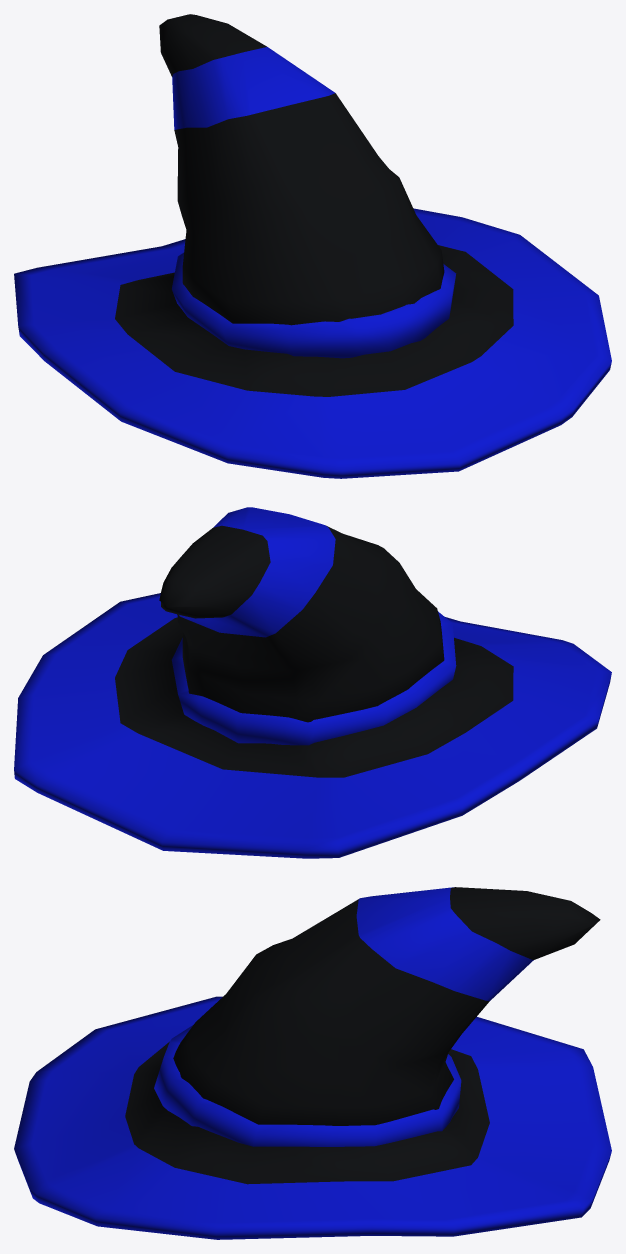
The model's file is BaseHumanoid.obj.
3 renders of one model, top to bottom at view 1: azimuth 30°, elevation 25°; view 2: azimuth 150°, elevation 25°; view 3: azimuth 270°, elevation 25°, orthographic.
Size of the model in its own units: 0.4951 by 0.2599 by 0.5351.
